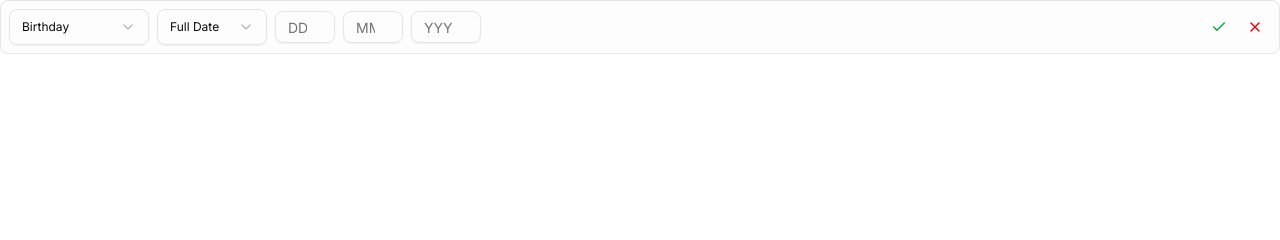
Scenario: ImportantDateInlineEditor › names the custom type input once Custom is chosen
The width and height of the screenshot is (1280, 240).
Click the dropdown named "Important Date Type" at (79, 27), box [9,9,149,45]
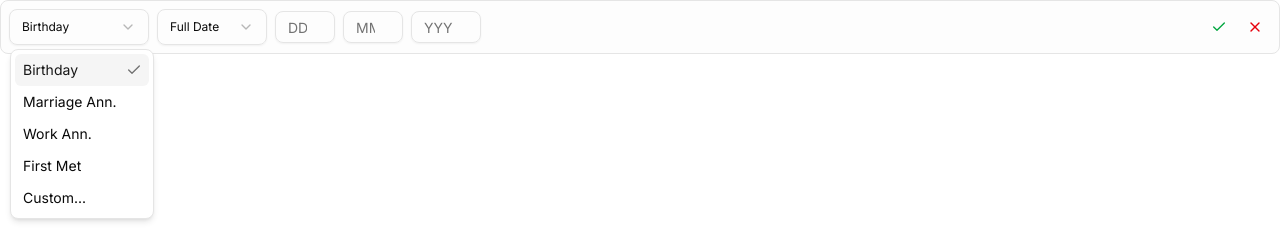
Click the option "Custom..." at (55, 198), box [23,189,86,206]
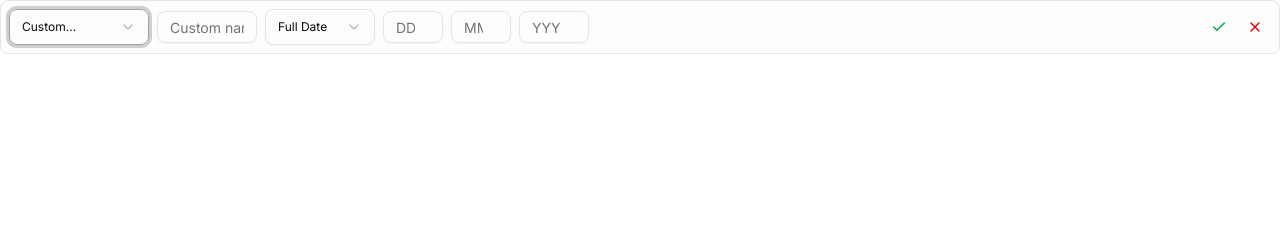
Check: the field named "Custom date type name" is shown, box [157,11,257,43]
